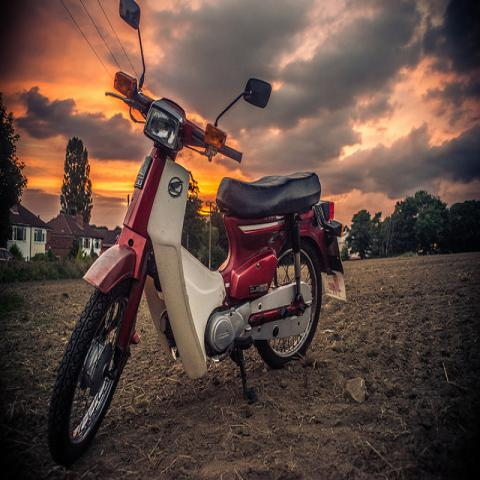motorcycle: (45, 1, 352, 467)
